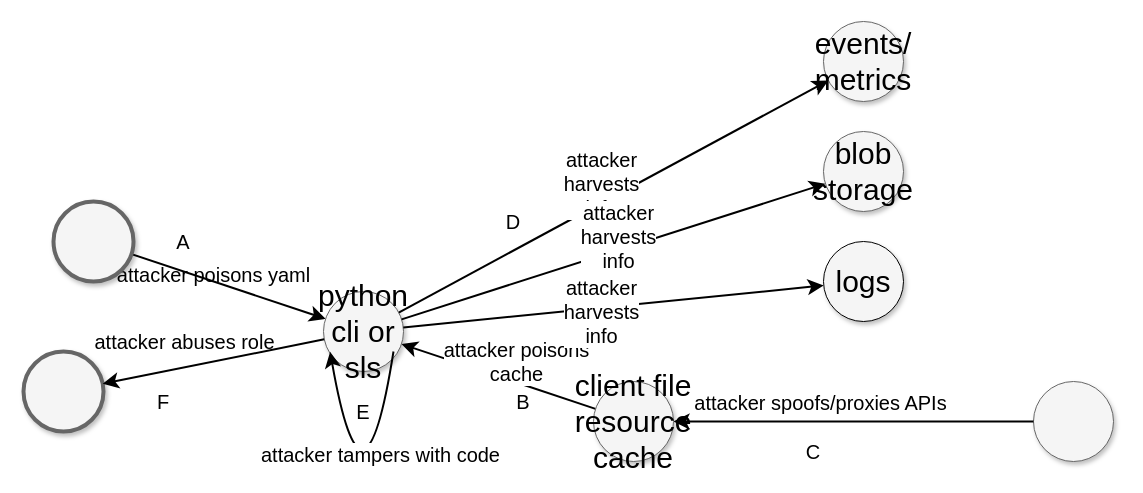
Image size: 1143x493. Some labels were removed from this diagram. The centre of each missing label's shape, as x and y in pixels:
"cloud API sources" goes at [1074,422].
"IAM policy" goes at [64,392].
"Policy YAML" goes at [94,242].
